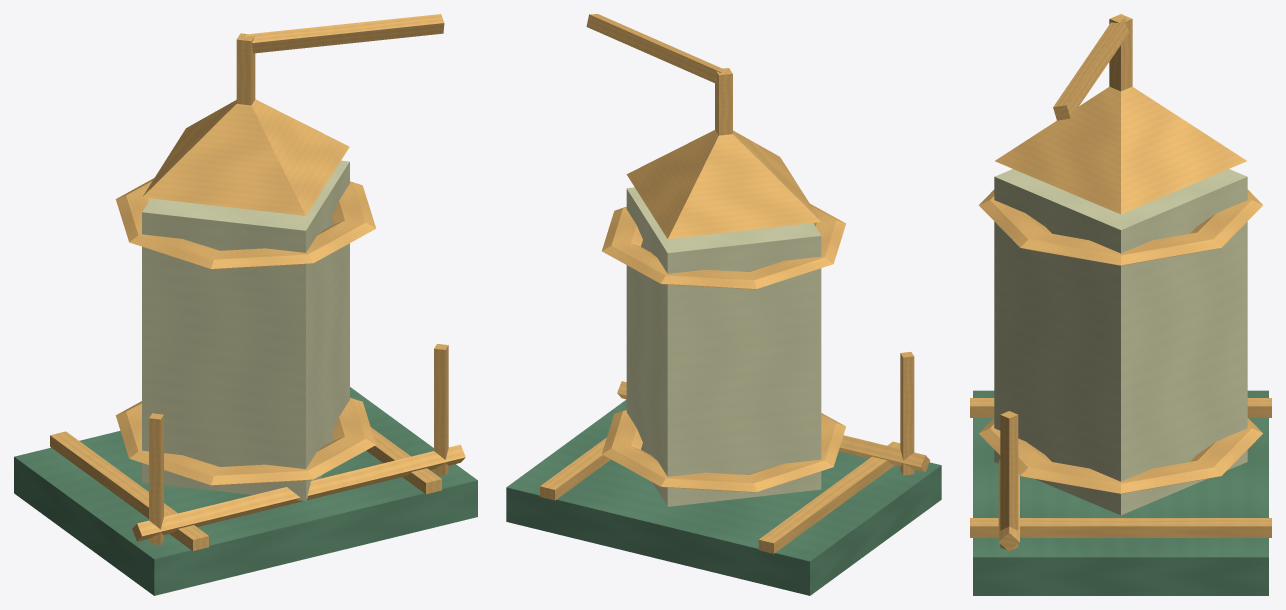
File: atlas100-s006-a01.lod2.glb
3 renders of one model, left to right at view 1: azimuth 30°, elevation 25°; view 2: azimuth 150°, elevation 25°; view 3: azimuth 270°, elevation 25°, orthographic. The views are drawn at different scales.
Parts seen in each view (by area): view 1: atlas100-s006-a01:part-003, atlas100-s006-a01:part-000, atlas100-s006-a01:part-007, atlas100-s006-a01:part-005, atlas100-s006-a01:part-004, atlas100-s006-a01:part-014, atlas100-s006-a01:part-009, atlas100-s006-a01:part-001, atlas100-s006-a01:part-012, atlas100-s006-a01:part-010, atlas100-s006-a01:part-002, atlas100-s006-a01:part-008; view 2: atlas100-s006-a01:part-003, atlas100-s006-a01:part-000, atlas100-s006-a01:part-007, atlas100-s006-a01:part-005, atlas100-s006-a01:part-004, atlas100-s006-a01:part-001, atlas100-s006-a01:part-009, atlas100-s006-a01:part-010, atlas100-s006-a01:part-002, atlas100-s006-a01:part-014, atlas100-s006-a01:part-008; view 3: atlas100-s006-a01:part-003, atlas100-s006-a01:part-000, atlas100-s006-a01:part-007, atlas100-s006-a01:part-005, atlas100-s006-a01:part-004, atlas100-s006-a01:part-002, atlas100-s006-a01:part-009, atlas100-s006-a01:part-012, atlas100-s006-a01:part-008, atlas100-s006-a01:part-001, atlas100-s006-a01:part-014.
Boxes of the visible parts, x1=… form: atlas100-s006-a01:part-003: x1=142, y1=160, x2=349, y2=500; atlas100-s006-a01:part-000: x1=14, y1=387, x2=477, y2=595; atlas100-s006-a01:part-007: x1=142, y1=99, x2=349, y2=215; atlas100-s006-a01:part-005: x1=115, y1=178, x2=375, y2=269; atlas100-s006-a01:part-004: x1=115, y1=397, x2=375, y2=485; atlas100-s006-a01:part-014: x1=132, y1=444, x2=465, y2=541; atlas100-s006-a01:part-009: x1=245, y1=14, x2=444, y2=53; atlas100-s006-a01:part-001: x1=50, y1=431, x2=208, y2=550; atlas100-s006-a01:part-012: x1=434, y1=343, x2=448, y2=475; atlas100-s006-a01:part-010: x1=149, y1=413, x2=163, y2=544; atlas100-s006-a01:part-002: x1=366, y1=427, x2=441, y2=494; atlas100-s006-a01:part-008: x1=236, y1=33, x2=255, y2=105; atlas100-s006-a01:part-003: x1=626, y1=187, x2=821, y2=506; atlas100-s006-a01:part-000: x1=506, y1=399, x2=941, y2=595; atlas100-s006-a01:part-007: x1=626, y1=130, x2=821, y2=239; atlas100-s006-a01:part-005: x1=602, y1=204, x2=845, y2=289; atlas100-s006-a01:part-004: x1=602, y1=409, x2=846, y2=492; atlas100-s006-a01:part-001: x1=758, y1=441, x2=900, y2=553; atlas100-s006-a01:part-009: x1=586, y1=14, x2=722, y2=84; atlas100-s006-a01:part-010: x1=900, y1=352, x2=914, y2=475; atlas100-s006-a01:part-002: x1=540, y1=437, x2=610, y2=500; atlas100-s006-a01:part-014: x1=617, y1=381, x2=930, y2=472; atlas100-s006-a01:part-008: x1=715, y1=68, x2=732, y2=135; atlas100-s006-a01:part-003: x1=994, y1=169, x2=1247, y2=515; atlas100-s006-a01:part-000: x1=973, y1=390, x2=1268, y2=595; atlas100-s006-a01:part-007: x1=995, y1=86, x2=1246, y2=214; atlas100-s006-a01:part-005: x1=979, y1=189, x2=1262, y2=265; atlas100-s006-a01:part-004: x1=979, y1=418, x2=1262, y2=493; atlas100-s006-a01:part-002: x1=970, y1=518, x2=1271, y2=537; atlas100-s006-a01:part-009: x1=1053, y1=18, x2=1129, y2=120; atlas100-s006-a01:part-012: x1=1000, y1=411, x2=1018, y2=549; atlas100-s006-a01:part-008: x1=1109, y1=14, x2=1132, y2=91; atlas100-s006-a01:part-001: x1=970, y1=398, x2=1271, y2=417; atlas100-s006-a01:part-014: x1=998, y1=460, x2=1019, y2=551.
Size of the model in its own units: 2.46 by 3.32 by 1.84.
4 materials, 4 textured.
